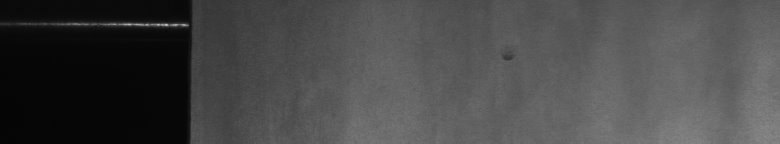fi: (500, 48, 516, 66)
